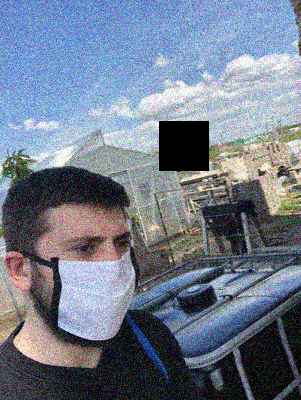with_mask: (46, 224, 140, 345)
